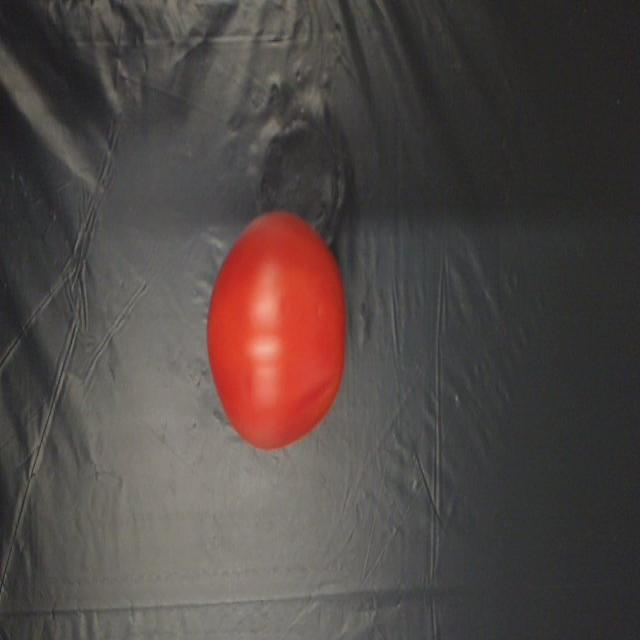kirmizi: (208, 204, 352, 453)
